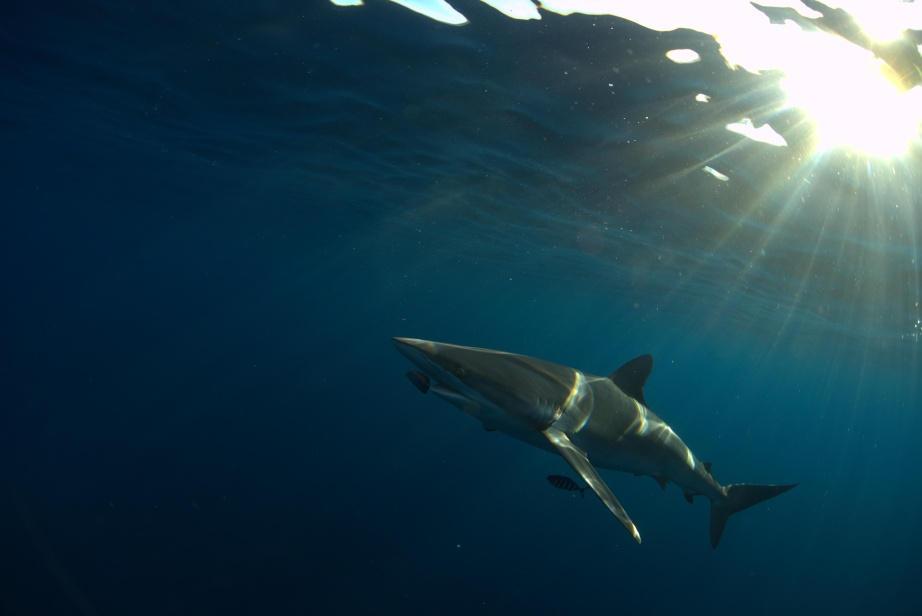Sedoso: (361, 297, 803, 573)
